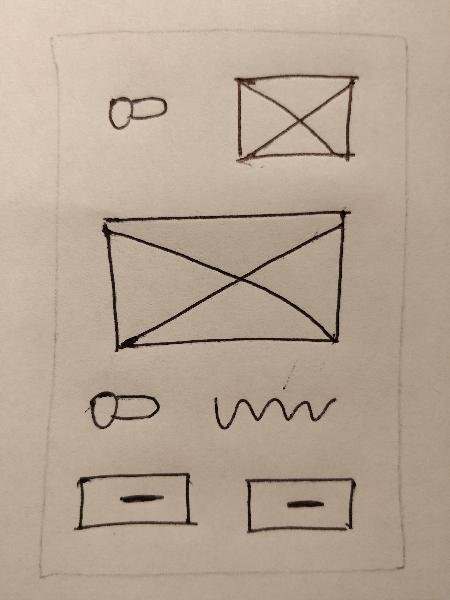button: (72, 461, 199, 537), (234, 467, 362, 541)
image: (93, 204, 353, 360), (222, 66, 366, 170)
switch: (97, 84, 178, 141), (79, 379, 163, 433)
text: (202, 383, 341, 444)
